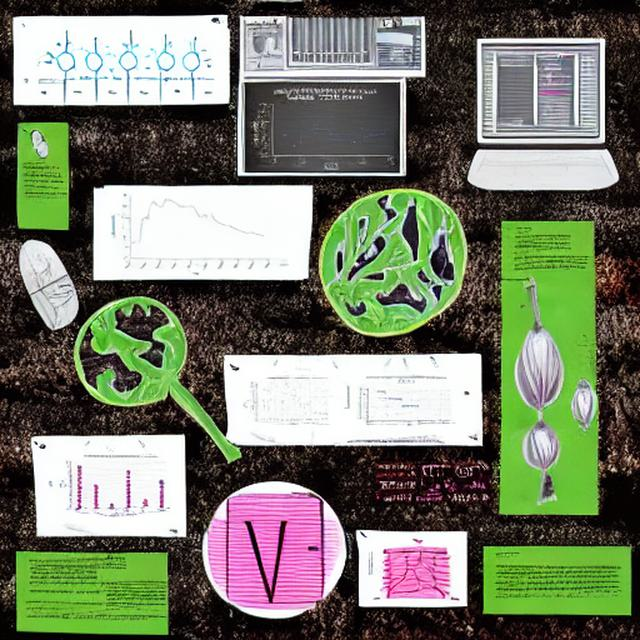Graph: (109, 188, 275, 277), (251, 85, 400, 173), (55, 453, 172, 519), (355, 373, 455, 432), (248, 376, 332, 428)
